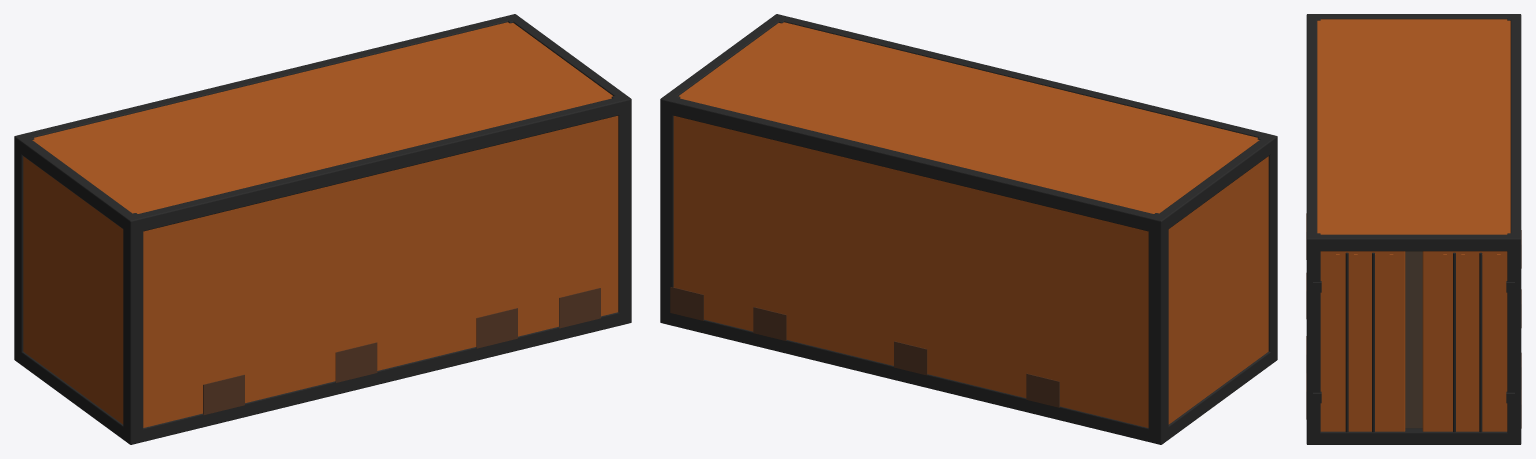
Rendered from container_orange.glb.
3 renders of one model, left to right at view 1: azimuth 30°, elevation 25°; view 2: azimuth 150°, elevation 25°; view 3: azimuth 270°, elevation 25°, orthographic. The views are drawn at different scales.
Visible parts, largest first — view 1: Cube.119; view 2: Cube.119; view 3: Cube.119.
Part boxes in pixels (bbox=[...]): Cube.119: bbox=[14, 14, 631, 444]; Cube.119: bbox=[660, 14, 1277, 444]; Cube.119: bbox=[1306, 14, 1521, 444].
Bounding box in the file's own units: 6.09 × 2.59 × 2.45.
